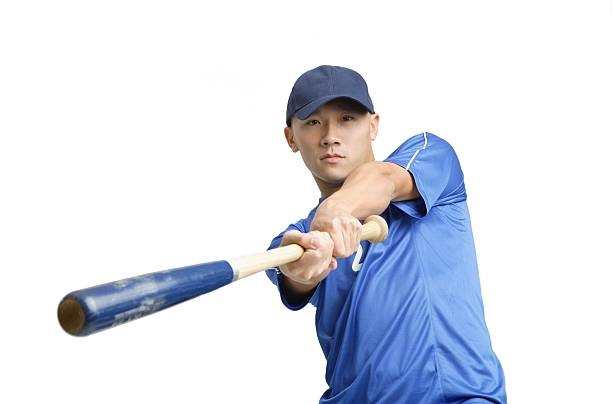bita: (52, 219, 387, 338)
